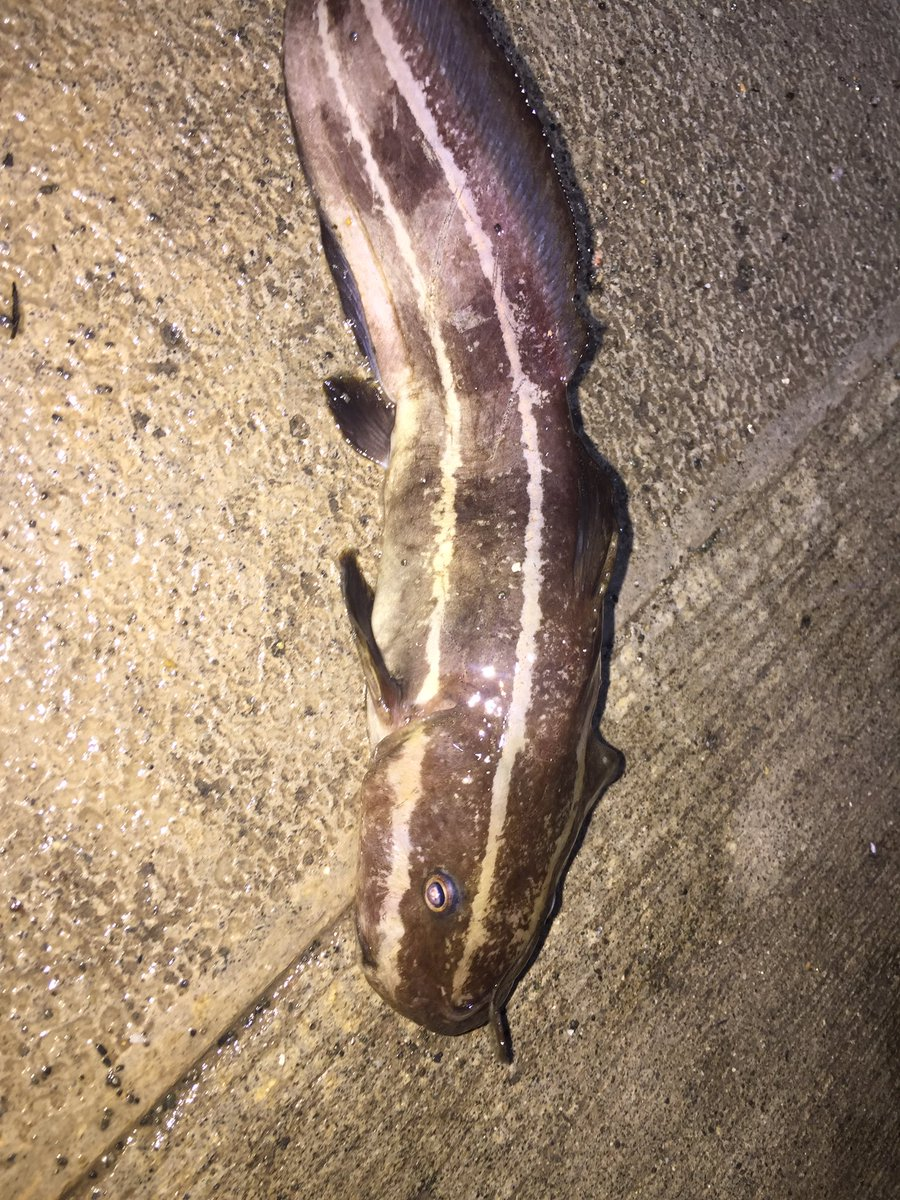gonzui: (238, 1, 690, 1082)
